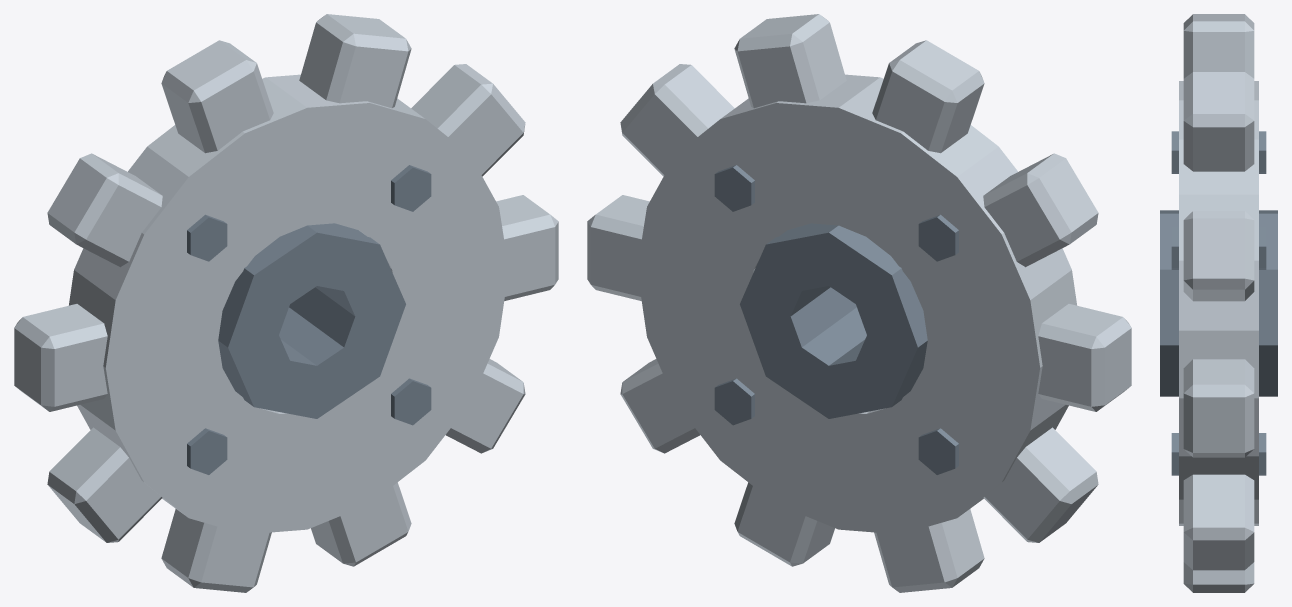
File: item_gear_chrome.fbx
3 renders of one model, left to right at view 1: azimuth 30°, elevation 25°; view 2: azimuth 150°, elevation 25°; view 3: azimuth 270°, elevation 25°, orthographic. The views are drawn at different scales.
Visible parts, largest first — view 1: item_gear_chrome; view 2: item_gear_chrome; view 3: item_gear_chrome.
Part boxes in pixels (x1=…): item_gear_chrome: x1=14, y1=14, x2=558, y2=592; item_gear_chrome: x1=587, y1=14, x2=1131, y2=592; item_gear_chrome: x1=1160, y1=14, x2=1277, y2=592.
Bounding box in the file's own units: 2.44 × 2.4 × 0.5.
